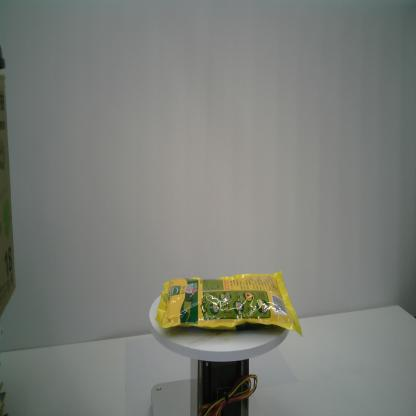Seasoner: (154, 268, 304, 340)
